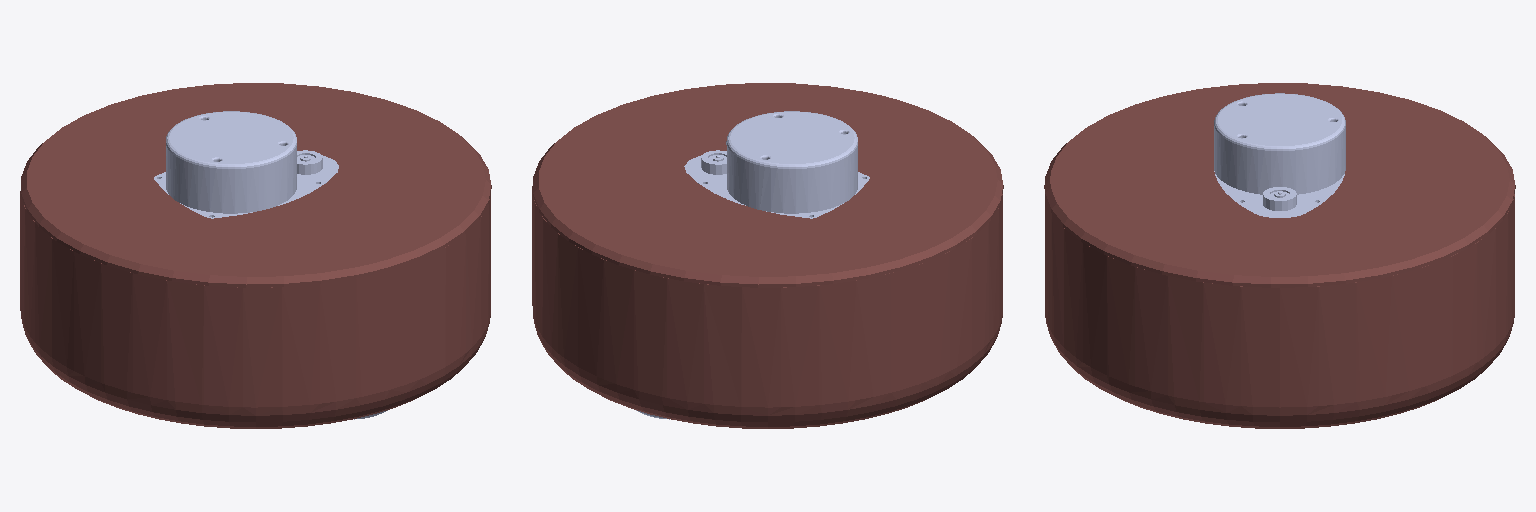
URDF robot description (vacbot):
<?xml version="1.0" encoding="utf-8"?>
<!-- This URDF was automatically created by SolidWorks to URDF Exporter! Originally created by [author] ([email redacted]) 
     Commit Version: 1.6.0-4-g7f85cfe  Build Version: 1.6.7995.38578
     For more information, please see http://wiki.ros.org/sw_urdf_exporter -->
<robot
  name="vacbot">
  <link
    name="base_link">
    <inertial>
      <origin
        xyz="0.00332591076919364 1.65151878331327E-06 -0.0175827079026559"
        rpy="0 0 0" />
      <mass
        value="1.35286638383304" />
      <inertia
        ixx="0.00521045939867892"
        ixy="1.20848530476391E-07"
        ixz="1.65344441773012E-05"
        iyy="0.00526141082590494"
        iyz="2.16681689416479E-08"
        izz="0.00940007834641815" />
    </inertial>
    <visual>
      <origin
        xyz="0 0 0"
        rpy="0 0 0" />
      <geometry>
        <mesh
          filename="package://vacbot/meshes/base_link.STL" />
      </geometry>
      <material
        name="">
        <color
          rgba="0.537254901960784 0.349019607843137 0.337254901960784 1" />
      </material>
    </visual>
    <collision>
      <origin
        xyz="0 0 0"
        rpy="0 0 0" />
      <geometry>
        <mesh
          filename="package://vacbot/meshes/base_link.STL" />
      </geometry>
    </collision>
  </link>
  <link
    name="right_wheel">
    <inertial>
      <origin
        xyz="-2.77555756156289E-17 -2.77555756156289E-17 0"
        rpy="0 0 0" />
      <mass
        value="0.0724822295504708" />
      <inertia
        ixx="2.94732051060975E-05"
        ixy="-2.02034277851798E-36"
        ixz="-1.06800606831602E-35"
        iyy="5.63474018761707E-05"
        iyz="-9.2905867500558E-20"
        izz="2.94732051060975E-05" />
    </inertial>
    <visual>
      <origin
        xyz="0 0 0"
        rpy="0 0 0" />
      <geometry>
        <mesh
          filename="package://vacbot/meshes/right_wheel.STL" />
      </geometry>
      <material
        name="">
        <color
          rgba="0.792156862745098 0.819607843137255 0.933333333333333 1" />
      </material>
    </visual>
    <collision>
      <origin
        xyz="0 0 0"
        rpy="0 0 0" />
      <geometry>
        <mesh
          filename="package://vacbot/meshes/right_wheel.STL" />
      </geometry>
    </collision>
  </link>
  <joint
    name="right_joint"
    type="continuous">
    <origin
      xyz="0.015 -0.09 -0.025"
      rpy="0 0 0" />
    <parent
      link="base_link" />
    <child
      link="right_wheel" />
    <axis
      xyz="0 -1 0" />
    <limit
      effort="1"
      velocity="1" />
  </joint>
  <link
    name="left_wheel">
    <inertial>
      <origin
        xyz="0 0 -1.38777878078145E-17"
        rpy="0 0 0" />
      <mass
        value="0.0724822295504708" />
      <inertia
        ixx="2.94732051060975E-05"
        ixy="-1.26802639399171E-36"
        ixz="-1.06800606831602E-35"
        iyy="5.63474018761706E-05"
        iyz="-9.2905867500558E-20"
        izz="2.94732051060975E-05" />
    </inertial>
    <visual>
      <origin
        xyz="0 0 0"
        rpy="0 0 0" />
      <geometry>
        <mesh
          filename="package://vacbot/meshes/left_link.STL" />
      </geometry>
      <material
        name="">
        <color
          rgba="0.792156862745098 0.819607843137255 0.933333333333333 1" />
      </material>
    </visual>
    <collision>
      <origin
        xyz="0 0 0"
        rpy="0 0 0" />
      <geometry>
        <mesh
          filename="package://vacbot/meshes/left_link.STL" />
      </geometry>
    </collision>
  </link>
  <joint
    name="left_joint"
    type="continuous">
    <origin
      xyz="0.015 0.09 -0.025"
      rpy="0 0 0" />
    <parent
      link="base_link" />
    <child
      link="left_wheel" />
    <axis
      xyz="0 -1 0" />
    <limit
      effort="1"
      velocity="1" />
  </joint>
  <link
    name="lidar">
    <inertial>
      <origin
        xyz="0.00701820465484088 -9.55933157581884E-05 -0.00678186574337436"
        rpy="0 0 0" />
      <mass
        value="1.27729502358401" />
      <inertia
        ixx="0.000593155004344454"
        ixy="-8.30781519063116E-07"
        ixz="0.000162730950395812"
        iyy="0.000933018731061213"
        iyz="-3.17002772661671E-06"
        izz="0.00106895549805298" />
    </inertial>
    <visual>
      <origin
        xyz="0 0 0"
        rpy="0 0 0" />
      <geometry>
        <mesh
          filename="package://vacbot/meshes/lidar.STL" />
      </geometry>
      <material
        name="">
        <color
          rgba="0.792156862745098 0.819607843137255 0.933333333333333 1" />
      </material>
    </visual>
    <collision>
      <origin
        xyz="0 0 0"
        rpy="0 0 0" />
      <geometry>
        <mesh
          filename="package://vacbot/meshes/lidar.STL" />
      </geometry>
    </collision>
  </link>
  <joint
    name="lidar_joint"
    type="fixed">
    <origin
      xyz="-0.015 0 0.05305"
      rpy="0 0 0" />
    <parent
      link="base_link" />
    <child
      link="lidar" />
    <axis
      xyz="0 0 0" />
    <limit
      effort="0"
      velocity="0" />
  </joint>

  <gazebo>
  <plugin name="differential_drive_controller" filename="libgazebo_ros_diff_drive.so">
    <updateRate>100</updateRate>
    <leftJoint>left_joint</leftJoint>
    <rightJoint>right_joint</rightJoint>
    <wheelSeparation>0.18</wheelSeparation>
    <wheelDiameter>0.08</wheelDiameter>
    <wheelAcceleration>-0.01</wheelAcceleration>
    <wheelTorque>10</wheelTorque>
    <commandTopic>cmd_vel</commandTopic>
    <odometryTopic>odom</odometryTopic>
    <odometryFrame>odom</odometryFrame>
    <robotBaseFrame>base_footprint</robotBaseFrame>
    <odometrySource>1</odometrySource>
    <publishWheelTF>true</publishWheelTF>
    <publishOdom>true</publishOdom>
    <publishWheelJointState>true</publishWheelJointState>
    <legacyMode>false</legacyMode>
  </plugin>
</gazebo>

<gazebo reference="lidar">
    <sensor type="ray" name="head_rplidar_sensor">
      <pose>0 0 0 0 0 0</pose>
      <visualize>true</visualize>
      <update_rate>40</update_rate>
      <ray>
        <scan>
          <horizontal>
            <samples>720</samples>
            <resolution>1</resolution>
            <min_angle>-1.57</min_angle>
            <max_angle>1.57</max_angle>
          </horizontal>
        </scan>
        <range>
          <min>0.2</min>
          <max>8</max>
          <resolution>0.01</resolution>
        </range>
        <noise>
          <type>gaussian</type>
          <mean>0.0</mean>
          <stddev>0.01</stddev>
        </noise>
      </ray>
      <plugin name='laser' filename='libgazebo_ros_laser.so'>
        <topicName>m2wr/laser_scan</topicName>
        <frameName>lidar</frameName>
        <always_on>1</always_on>
        <update_rate>40</update_rate>
      </plugin>
    </sensor>
  </gazebo>
</robot>

--- Facts derived from the render (not from the file) ---
Views: 3 orthographic renders of the robot side by side, from view 1: azimuth 30°, elevation 25°; view 2: azimuth 150°, elevation 25°; view 3: azimuth 270°, elevation 25°.
Model vacbot with 4 links and 3 joints (2 continuous, 1 fixed), rooted at base_link, posed all joints at 0.
Links seen in each view (by area): view 1: base_link, lidar; view 2: base_link, lidar; view 3: base_link, lidar.
Link boxes in pixels (box(x1,y1,x2,y2)): base_link: box(20, 83, 491, 428); lidar: box(154, 111, 338, 218); base_link: box(532, 83, 1003, 428); lidar: box(684, 111, 869, 218); base_link: box(1044, 83, 1515, 428); lidar: box(1214, 93, 1345, 217).
Bounding box of the posed robot: 0.25 × 0.25 × 0.1331 m (x, y, z).
Meshes: 4 distinct files referenced, 4 mesh visuals loaded (4 binary STL).
